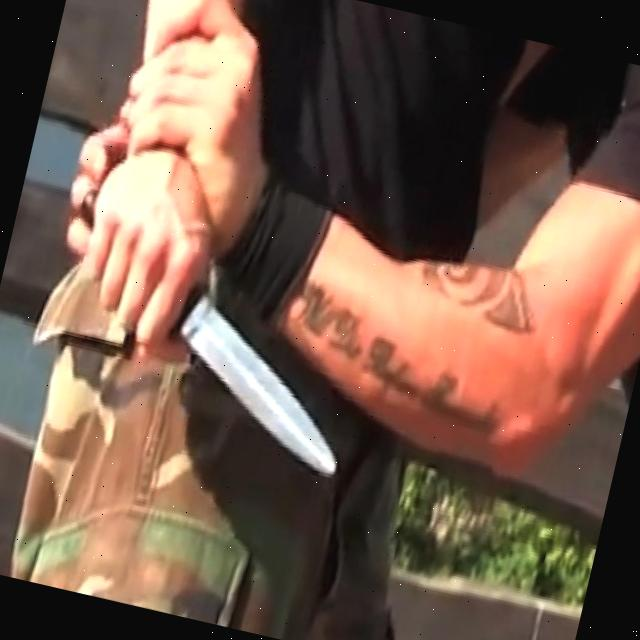suspicion: (26, 0, 446, 489), (151, 286, 371, 482)
